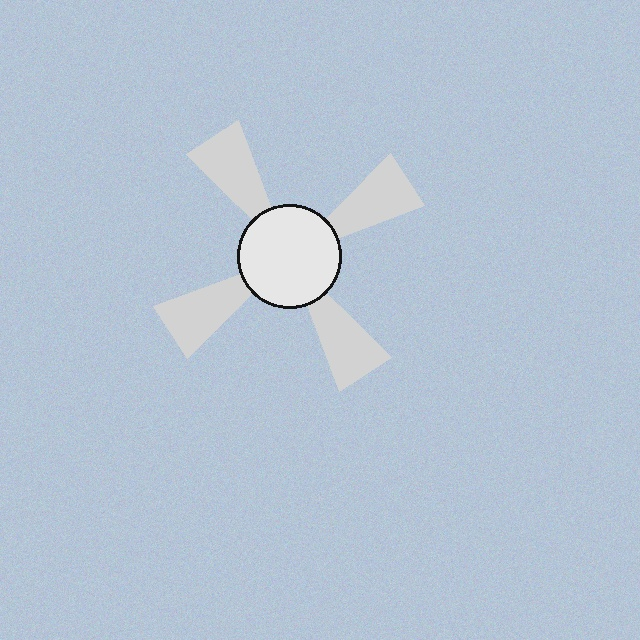fan: (118, 85, 460, 427)
